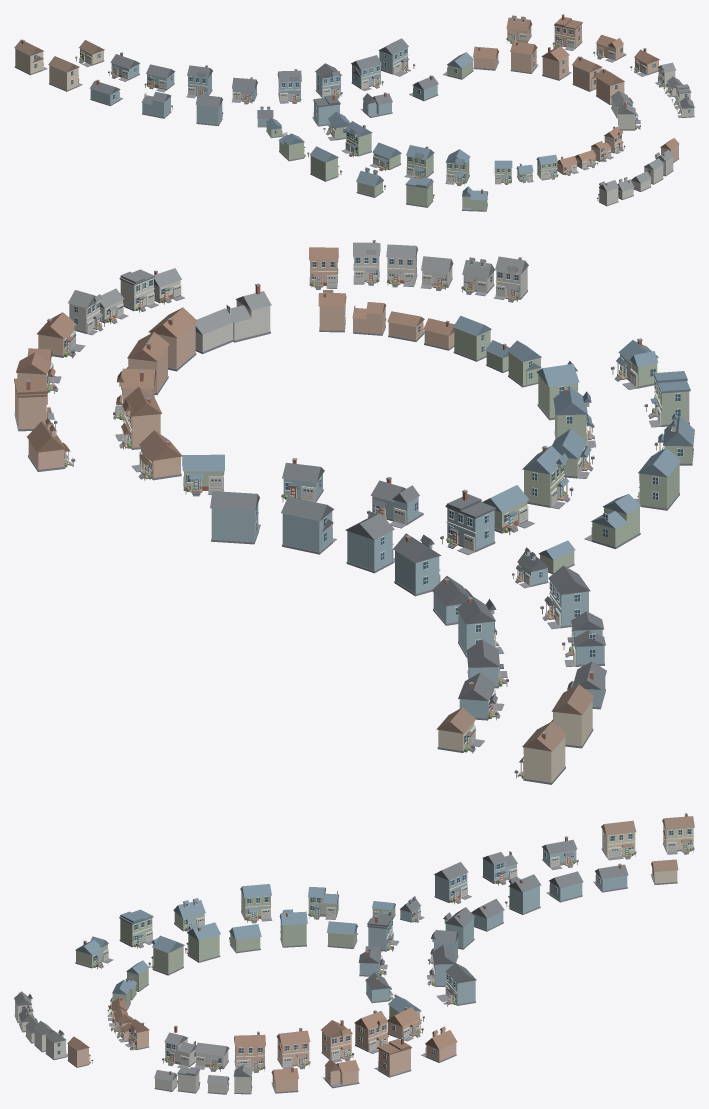
The model's file is pine-hollow.glb.
3 renders of one model, top to bottom at view 1: azimuth 30°, elevation 25°; view 2: azimuth 150°, elevation 25°; view 3: azimuth 270°, elevation 25°, orthographic. The views are drawn at different scales.
Visible parts, largest first — view 1: suburban_29_double_garage.003, suburban_27_side_garage_two.003, suburban_14_double_garage.003, suburban_38_suburban_farmhouse.005, suburban_12_side_garage_two.003, suburban_54_modern_suburban.006, suburban_35_garage_colonial.005, suburban_53_suburban_farmhouse.006, suburban_34_center_colonial.005, suburban_55_front_gable.006, suburban_20_garage_colonial.003, suburban_39_modern_suburban.005 (+36 smaller); view 2: suburban_27_side_garage_two.003, suburban_24_modern_suburban.003, suburban_29_double_garage.003, suburban_23_suburban_farmhouse.003, suburban_25_front_gable.003, suburban_12_side_garage_two.003, suburban_34_center_colonial.005, suburban_35_garage_colonial.005, suburban_20_garage_colonial.003, suburban_33_split_level.005, suburban_14_double_garage.003, suburban_39_modern_suburban.005 (+43 smaller); view 3: suburban_14_double_garage.003, suburban_57_side_garage_two.006, suburban_29_double_garage.003, suburban_38_suburban_farmhouse.005, suburban_12_side_garage_two.003, suburban_20_garage_colonial.003, suburban_53_suburban_farmhouse.006, suburban_39_modern_suburban.005, suburban_55_front_gable.006, suburban_35_garage_colonial.005, suburban_19_center_colonial.003, suburban_54_modern_suburban.006 (+33 smaller).
Boxes of the visible parts, x1,y1,x2,y2 form: suburban_29_double_garage.003: (378,38,415,76); suburban_27_side_garage_two.003: (351,55,383,90); suburban_14_double_garage.003: (48,56,82,91); suburban_38_suburban_farmhouse.005: (404,145,434,178); suburban_12_side_garage_two.003: (14,39,47,75); suburban_54_modern_suburban.006: (552,14,582,50); suburban_35_garage_colonial.005: (310,146,342,181); suburban_53_suburban_farmhouse.006: (510,39,538,73); suburban_34_center_colonial.005: (341,121,372,157); suburban_55_front_gable.006: (541,45,571,80); suburban_20_garage_colonial.003: (195,94,223,126); suburban_39_modern_suburban.005: (405,177,434,207); suburban_27_side_garage_two.003: (281,496,336,554); suburban_24_modern_suburban.003: (440,489,495,555); suburban_29_double_garage.003: (210,491,260,544); suburban_23_suburban_farmhouse.003: (393,533,440,596); suburban_25_front_gable.003: (345,511,394,573); suburban_12_side_garage_two.003: (514,721,566,784); suburban_34_center_colonial.005: (522,445,573,508); suburban_35_garage_colonial.005: (634,448,681,510); suburban_20_garage_colonial.003: (540,565,590,629); suburban_33_split_level.005: (584,494,641,548); suburban_14_double_garage.003: (551,684,594,748); suburban_39_modern_suburban.005: (644,371,690,427); suburban_14_double_garage.003: (601,820,636,860); suburban_57_side_garage_two.006: (276,1028,310,1069); suburban_29_double_garage.003: (437,963,476,1006); suburban_38_suburban_farmhouse.005: (185,922,220,962); suburban_12_side_garage_two.003: (662,813,694,854); suburban_20_garage_colonial.003: (434,862,471,904); suburban_53_suburban_farmhouse.006: (354,1010,389,1053); suburban_39_modern_suburban.005: (119,909,153,948); suburban_55_front_gable.006: (321,1020,354,1062); suburban_35_garage_colonial.005: (240,884,272,923); suburban_19_center_colonial.003: (505,874,541,914); suburban_54_modern_suburban.006: (374,1037,411,1077).
Bounding box in the file's own units: 147 × 12.78 × 158.
